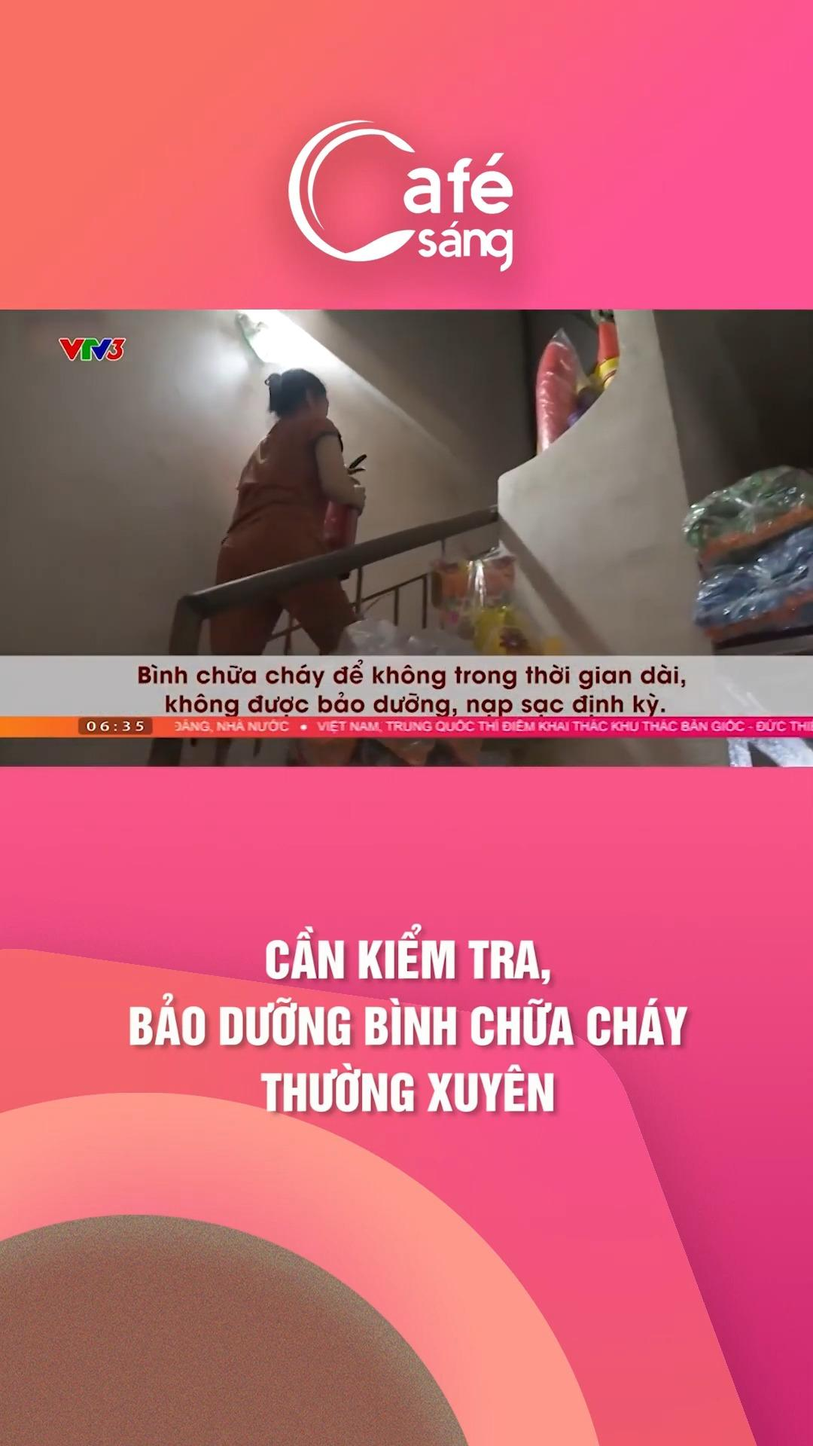not: (201, 340, 351, 705)
